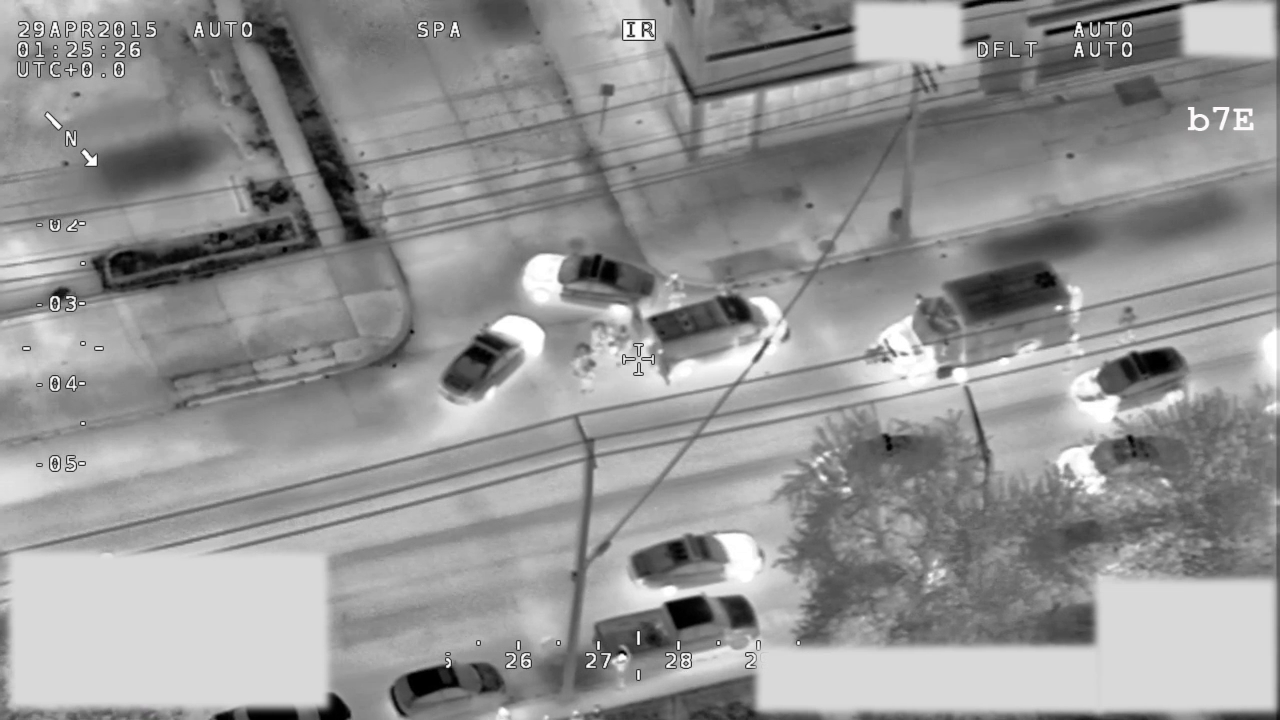vehicle: (875, 257, 1083, 388), (588, 592, 765, 674), (642, 290, 794, 383), (521, 247, 688, 319), (804, 426, 955, 500), (438, 313, 546, 409), (1065, 340, 1193, 420), (1048, 432, 1194, 500), (625, 528, 766, 590), (385, 661, 509, 719)
